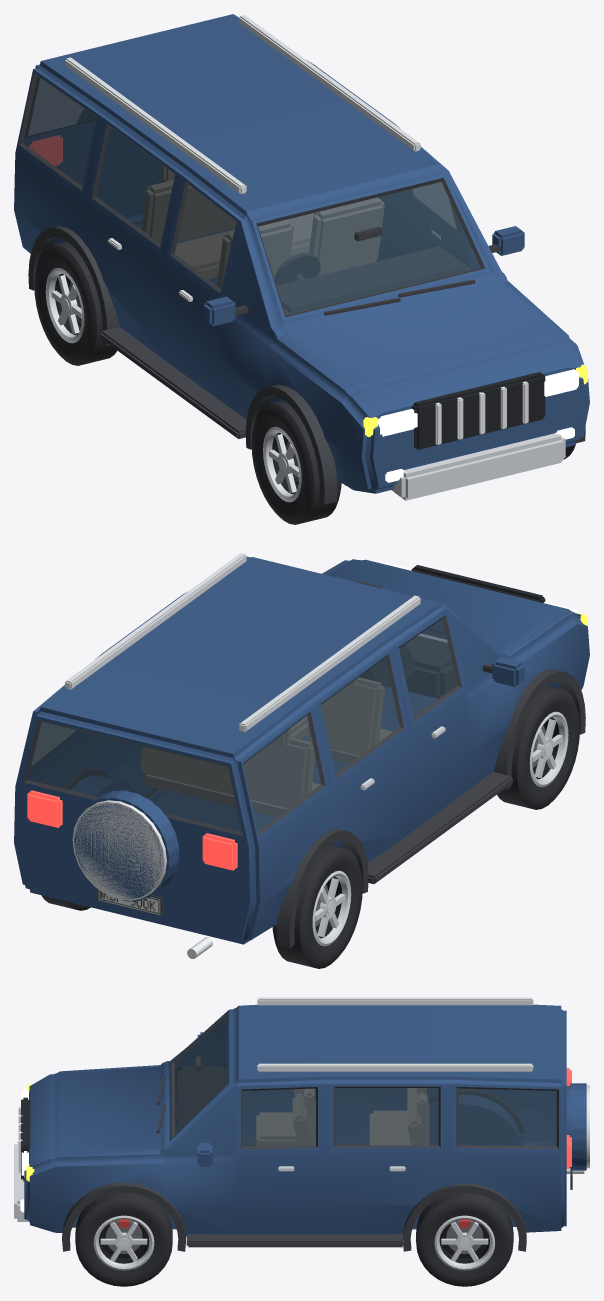
The model's file is Kenya_Prado_Highland_SUV.glb.
3 views of the same model, one above another, from view 1: azimuth 30°, elevation 25°; view 2: azimuth 150°, elevation 25°; view 3: azimuth 270°, elevation 25° (orthographic). The views are drawn at different scales.
Parts seen in each view (by area): view 1: Prado_Body, Wheel_FR.002, Wheel_RR.002, CabinDashCowl.002, PradoGrilleFrame, FrontSkidPlate, SeatBack_0_-0.35, SideStep_0.68, BenchBack_1.002, FlareF_1, RoofRail_0.68, RoofRail_-0.68 (+9 smaller); view 2: Prado_Body, RearSpareCover, RearSpareChrome, Wheel_RR.002, Wheel_FR.002, BenchBack_1.002, SeatBack_0_0.35, SideStep_0.68, FlareR_1, CabinDashCowl.002, FlareF_1, RoofRail_-0.68 (+8 smaller); view 3: Prado_Body, Wheel_RL.002, Wheel_FL.002, SideStep_-0.68, RoofRail_0.68, RoofRail_-0.68, CabinDashCowl.002, FlareF_-1, FlareR_-1, RearSpareCover, SeatCush_0_0.35, BenchCush_1.002 (+5 smaller).
Boxes of the visible parts, <box> form: Prado_Body: <box>14,14,589,493</box>; Wheel_FR.002: <box>251,400,341,524</box>; Wheel_RR.002: <box>34,241,117,365</box>; CabinDashCowl.002: <box>277,246,470,315</box>; PradoGrilleFrame: <box>411,372,545,449</box>; FrontSkidPlate: <box>391,433,565,500</box>; SeatBack_0_-0.35: <box>309,197,384,275</box>; SideStep_0.68: <box>100,327,246,439</box>; BenchBack_1.002: <box>142,180,236,243</box>; FlareF_1: <box>245,384,337,504</box>; RoofRail_0.68: <box>65,57,246,193</box>; RoofRail_-0.68: <box>239,15,420,151</box>; Prado_Body: <box>14,556,589,944</box>; RearSpareCover: <box>72,790,179,901</box>; RearSpareChrome: <box>72,800,166,900</box>; Wheel_RR.002: <box>272,844,362,968</box>; Wheel_FR.002: <box>493,685,579,809</box>; BenchBack_1.002: <box>140,737,314,808</box>; SeatBack_0_0.35: <box>307,677,384,755</box>; SideStep_0.68: <box>367,772,512,883</box>; FlareR_1: <box>276,829,368,948</box>; CabinDashCowl.002: <box>360,636,457,698</box>; FlareF_1: <box>494,669,585,789</box>; RoofRail_-0.68: <box>65,553,246,689</box>; Prado_Body: <box>24,1004,566,1236</box>; Wheel_RL.002: <box>416,1192,513,1286</box>; Wheel_FL.002: <box>75,1192,172,1286</box>; SideStep_-0.68: <box>186,1234,404,1247</box>; RoofRail_0.68: <box>257,997,533,1005</box>; RoofRail_-0.68: <box>257,1063,533,1071</box>; CabinDashCowl.002: <box>177,1066,226,1132</box>; FlareF_-1: <box>62,1182,185,1251</box>; FlareR_-1: <box>403,1183,526,1251</box>; RearSpareCover: <box>566,1083,586,1170</box>; SeatCush_0_0.35: <box>256,1112,297,1145</box>; BenchCush_1.002: <box>370,1111,410,1144</box>.
Bounding box in the file's own units: 2.46 × 1.95 × 4.97.
Materials: 17 (1 with a texture image).
